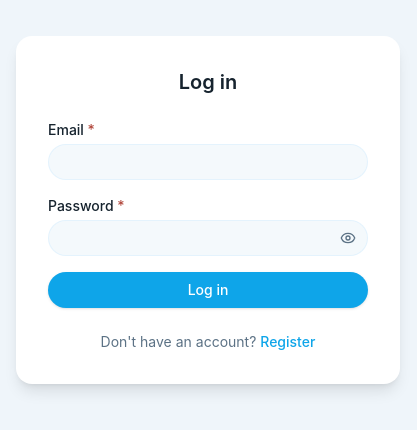
Login › shows a validation error under each empty required field when submitted
Step 1. Click the button "Log in" → x=208, y=290, box [48,272,368,308]
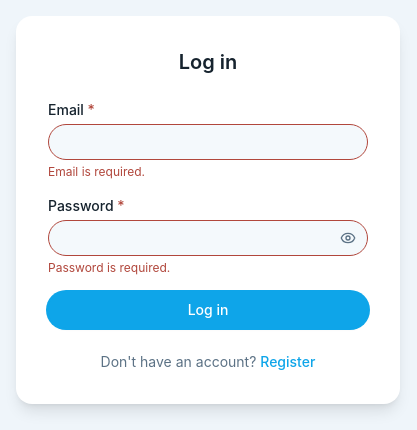
Check: the text "Email is required." is shown, box [48,164,145,179]
Check: the text "Password is required." is shown, box [48,260,170,275]
